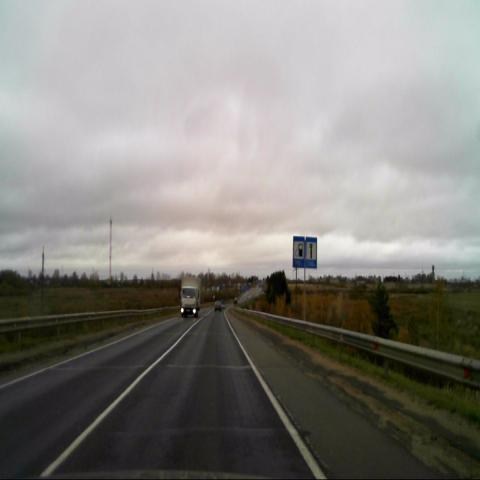7_4: (305, 236, 317, 270)
